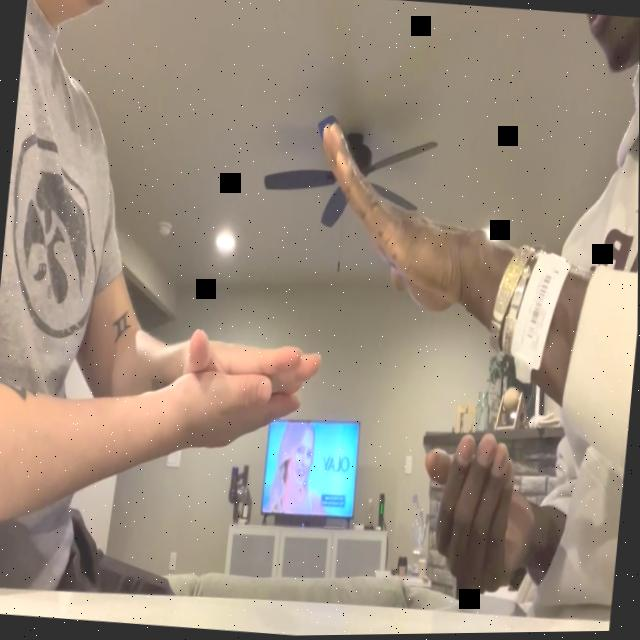Paper: (305, 119, 481, 324), (177, 323, 327, 402)
